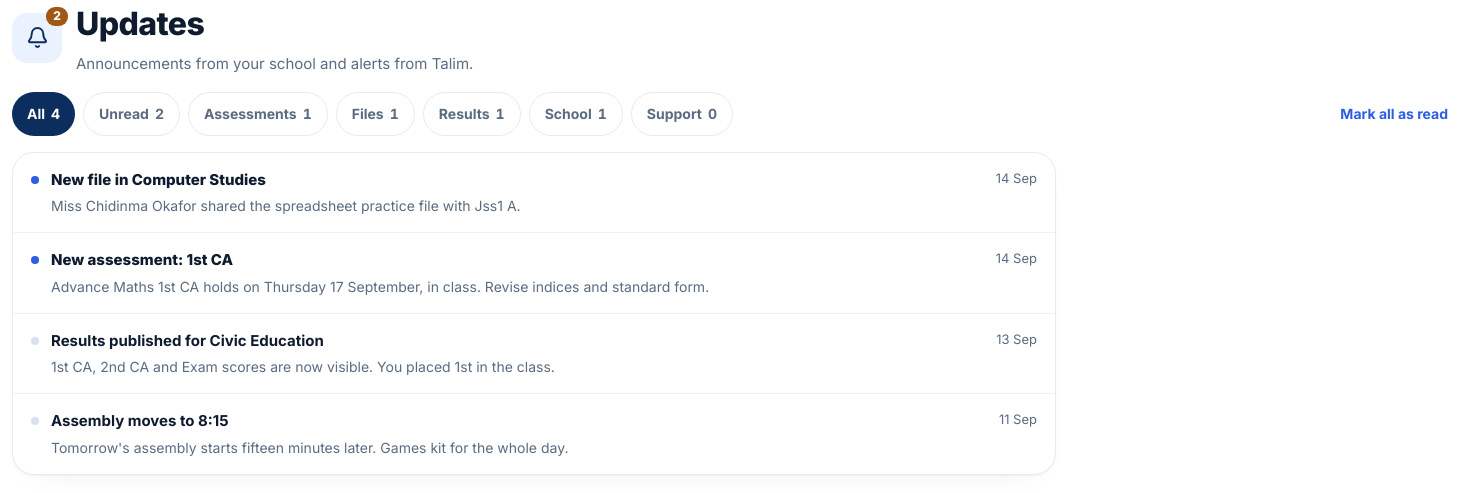
Test: Updates screen › narrows the list with the filter chips
Expected: the text "New file in Computer Studies" is shown, [51,168,329,188]
Click the button "Assessments 1".
click(258, 114)  # box [188,92,328,136]
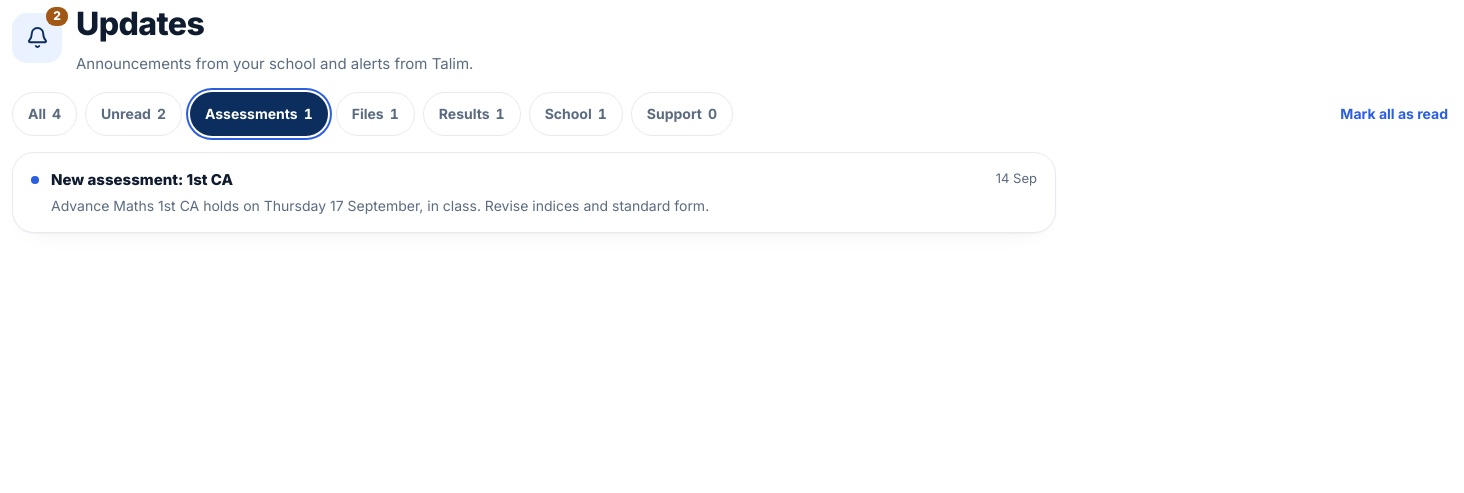
Expected: the button with aria-label "From Easy Sparks Education Center" shows "New assessment: 1st CA", [13,152,1055,232]
Expected: the button "Assessments 1" is pressed, [190,92,328,136]
Click the button "Unread 2".
click(134, 114)  # box [85,92,182,136]
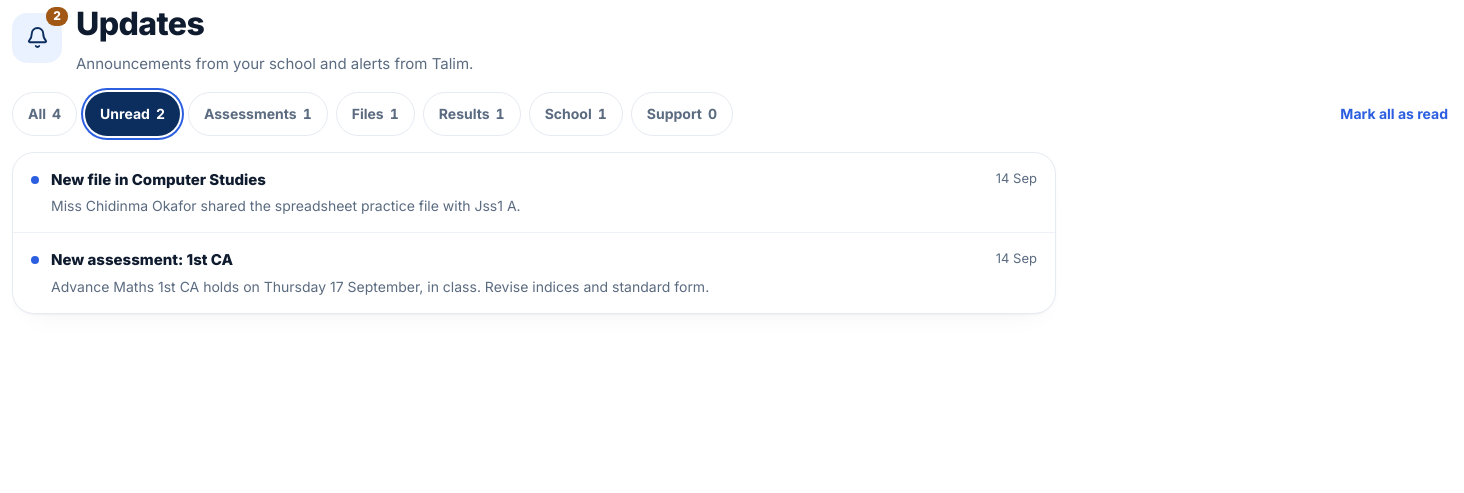
Click the button "School 1".
click(576, 114)  # box [529,92,623,136]
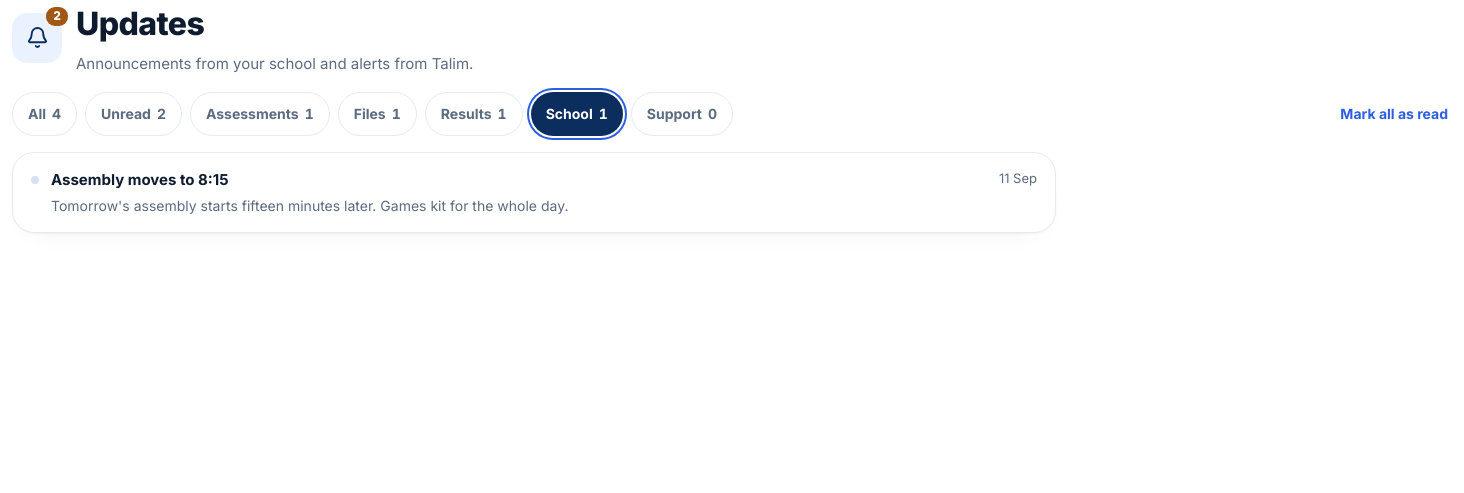
Expected: the button with aria-label "From Mr Saint Agbukor" shows "Assembly moves to 8:15", [13,152,1055,232]
